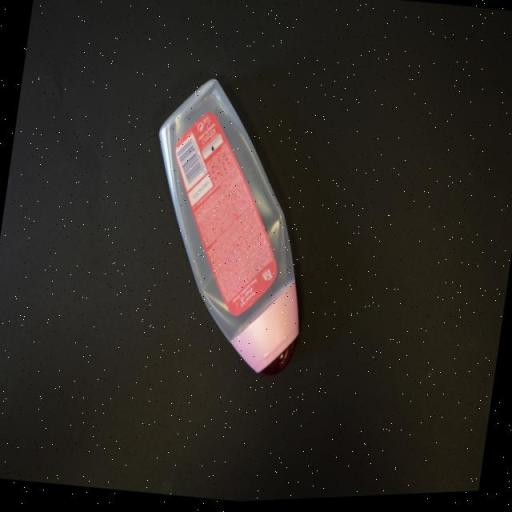plastic: (128, 64, 337, 391)
